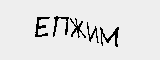Е: (33, 17, 49, 39)
Ж: (71, 16, 86, 39)
И: (86, 23, 100, 42)
М: (100, 25, 119, 47)
П: (53, 16, 69, 37)
